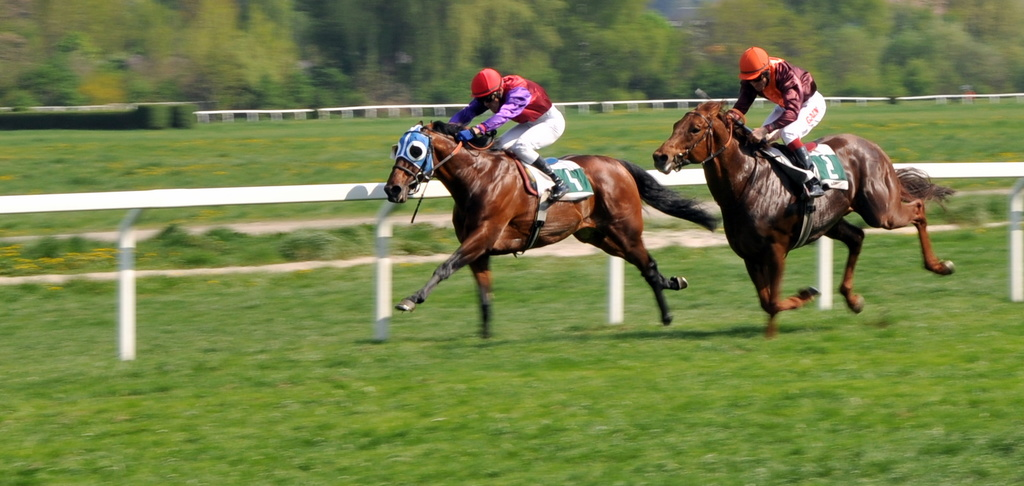horse: (383, 119, 722, 339), (652, 99, 957, 339)
